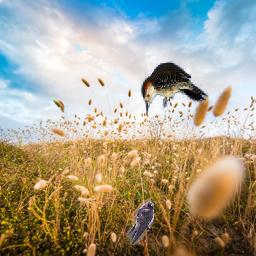Swallow: (126, 201, 154, 246)
Woodpecker: (135, 62, 209, 117)
